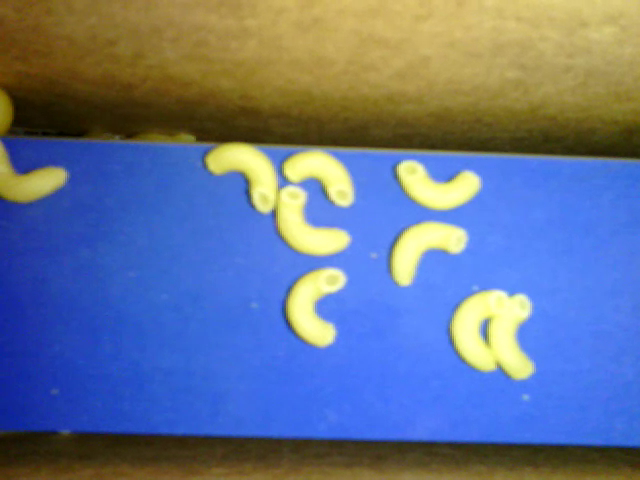elbow: (273, 185, 353, 258), (387, 220, 470, 290), (447, 286, 513, 373), (202, 142, 278, 216), (281, 269, 350, 348), (394, 157, 486, 211), (282, 146, 357, 211), (488, 290, 538, 387), (2, 148, 68, 206)
